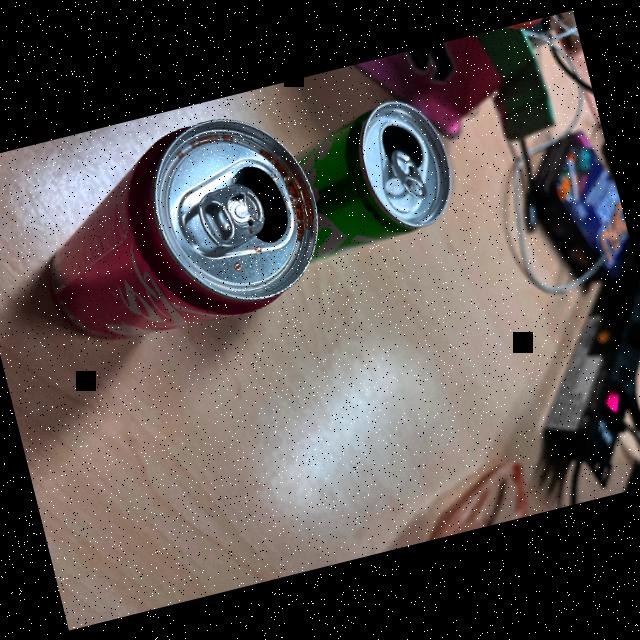can: (3, 94, 348, 373), (268, 94, 468, 269)
